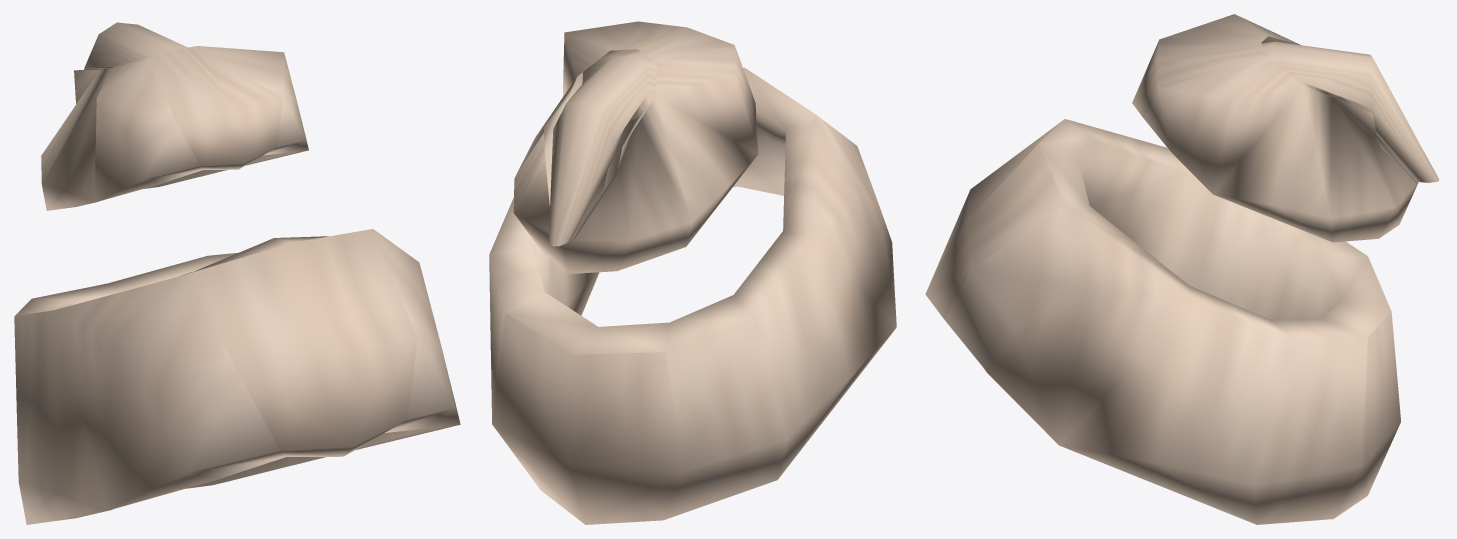
File: maya_f_1.dae
3 views of the same model, side by side, from view 1: azimuth 30°, elevation 25°; view 2: azimuth 150°, elevation 25°; view 3: azimuth 270°, elevation 25° (orthographic). The views are drawn at different scales.
Visible parts, largest first — view 1: faixa_grande_1; view 2: faixa_grande_1; view 3: faixa_grande_1.
Part boxes in pixels (box(x1,y1,x2,y2)): faixa_grande_1: box(14, 22, 460, 524); faixa_grande_1: box(489, 21, 896, 524); faixa_grande_1: box(925, 14, 1439, 524).
Bounding box in the file's own units: 0.4975 × 0.6657 × 0.6432.
